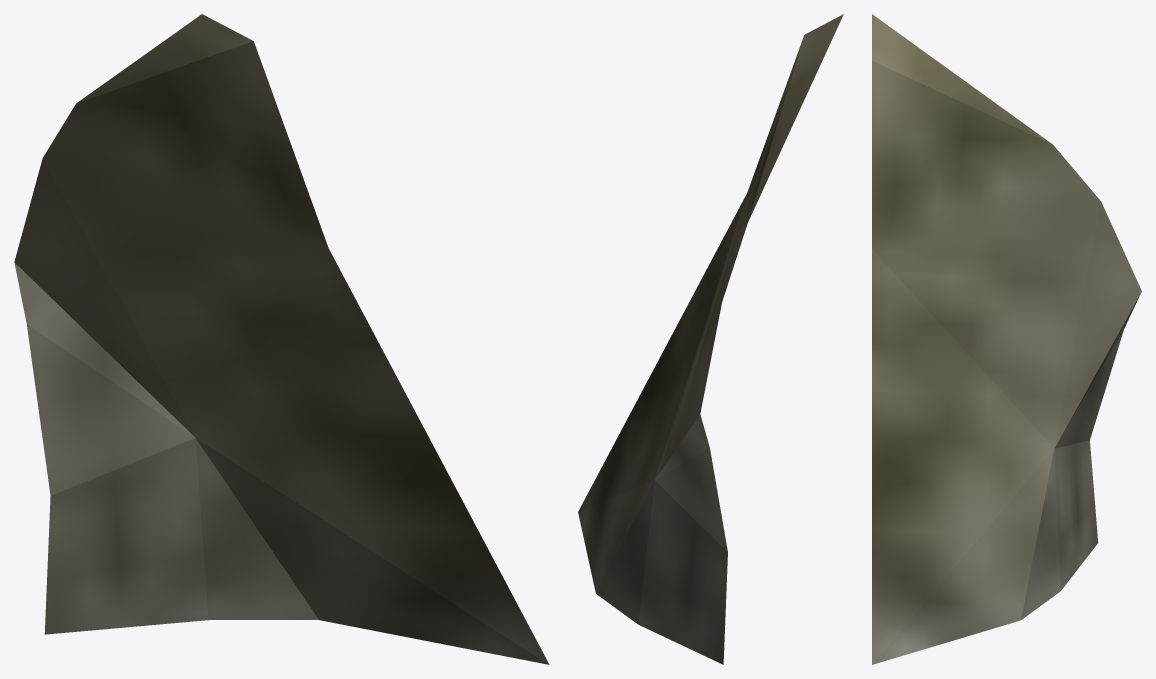
The picture shows the model from 3 angles, left to right: view 1: azimuth 30°, elevation 25°; view 2: azimuth 150°, elevation 25°; view 3: azimuth 270°, elevation 25°; orthographic projection. The views are drawn at different scales.
Bounding box in the file's own units: 0.1429 × 0.2891 × 0.1337.
Materials: 1 (1 with a texture image).
